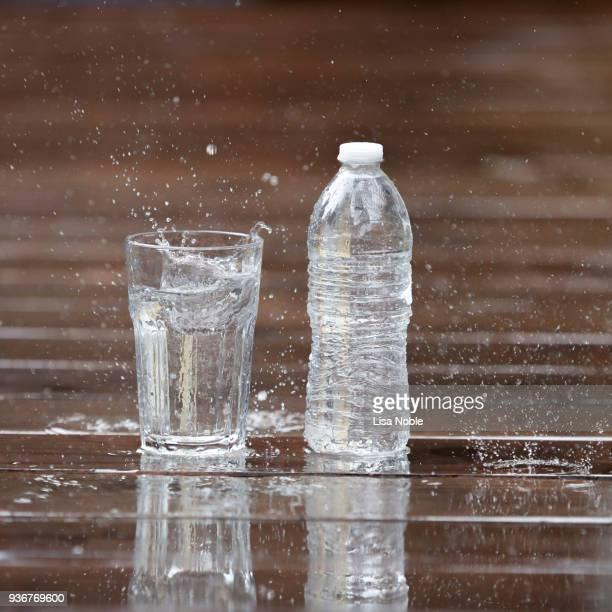bottle: (299, 134, 419, 482)
